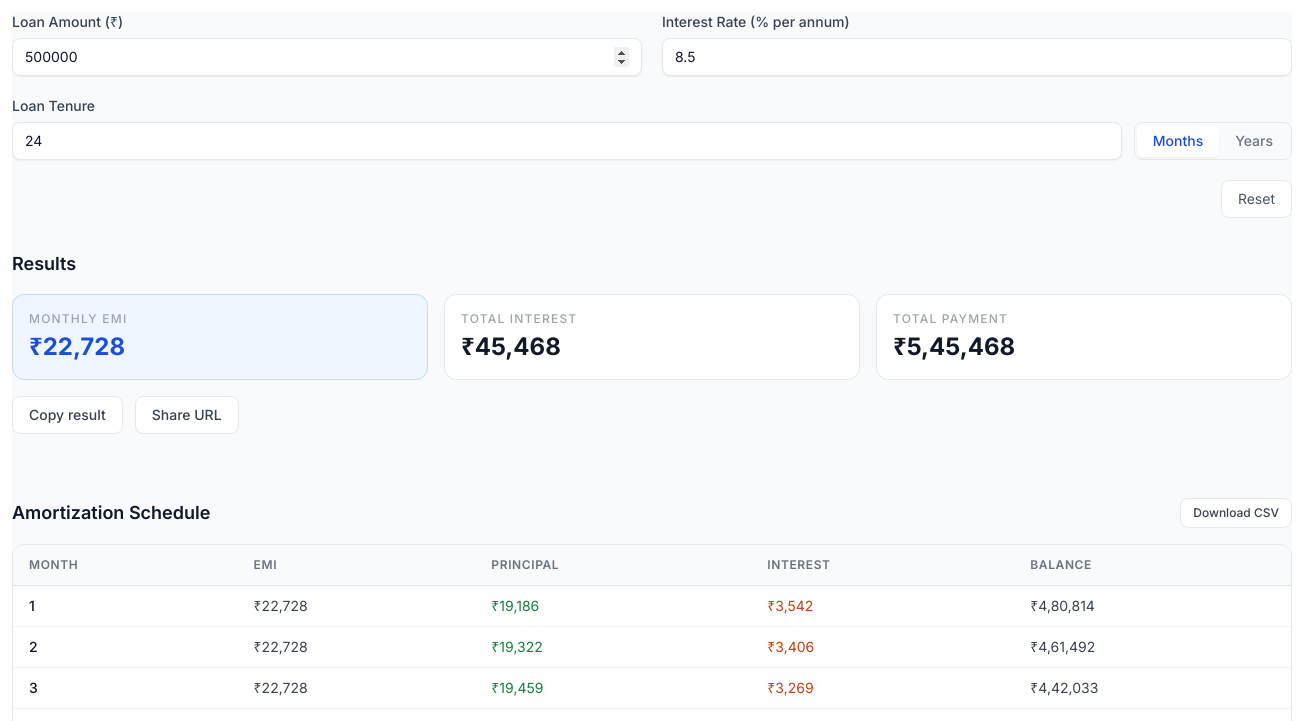
Test: EMICalculator › reset button restores default rate value
Replace the text in the number field labelled "Interest Rate (% per annum)" with "15": (977, 57) [662,38,1292,76]
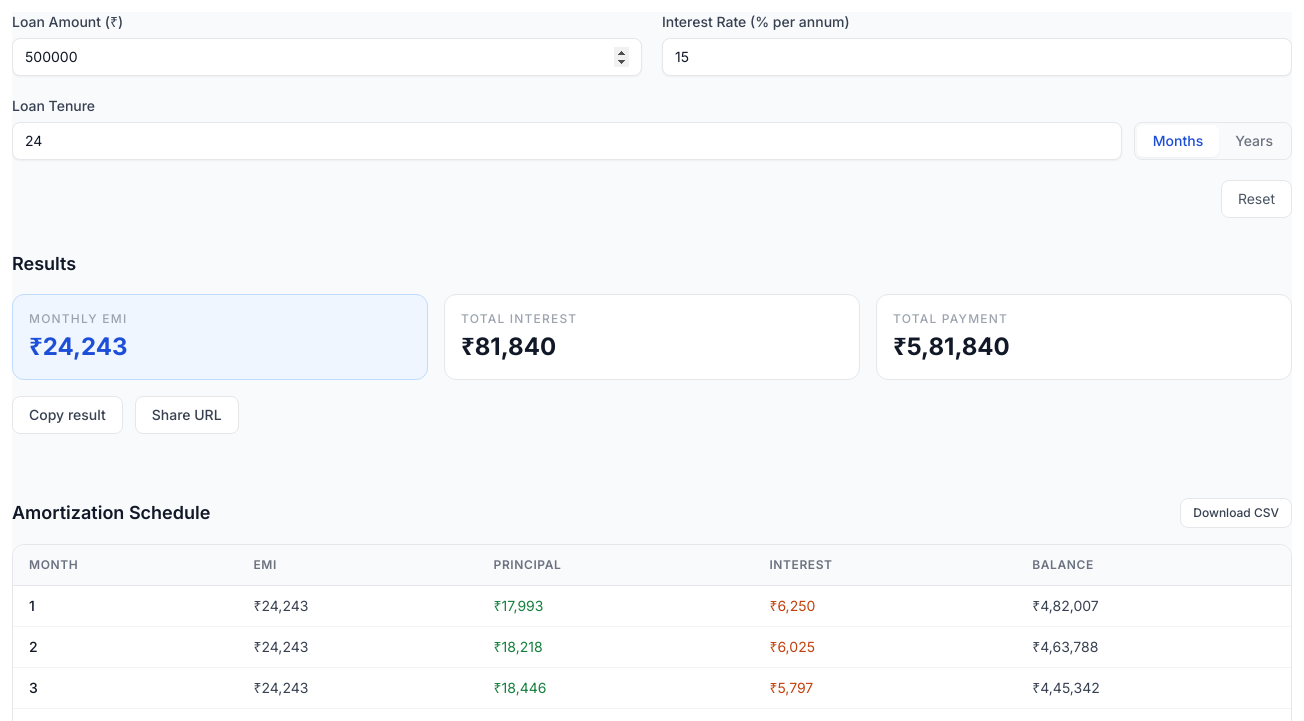
Click the button "Reset": (1256, 199) [1221,180,1292,218]
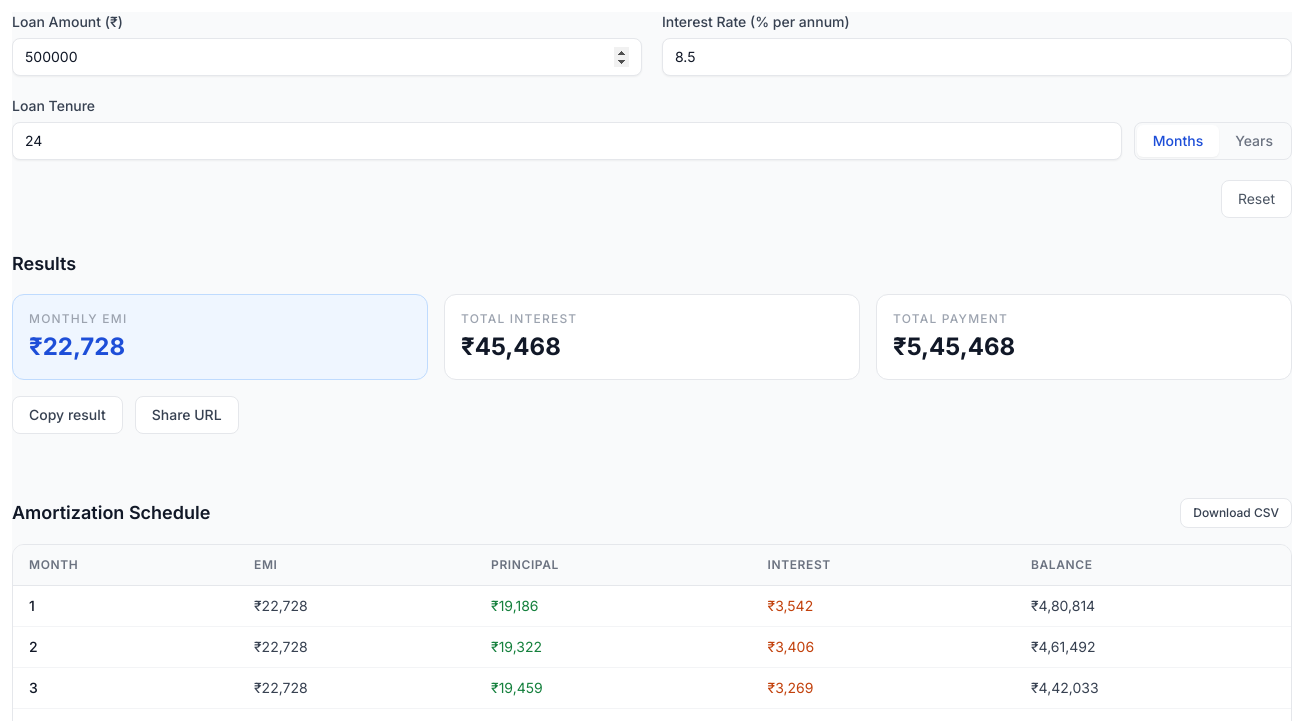
Check: the number field labelled "Interest Rate (% per annum)" holds "8.5", box [662,38,1292,76]
